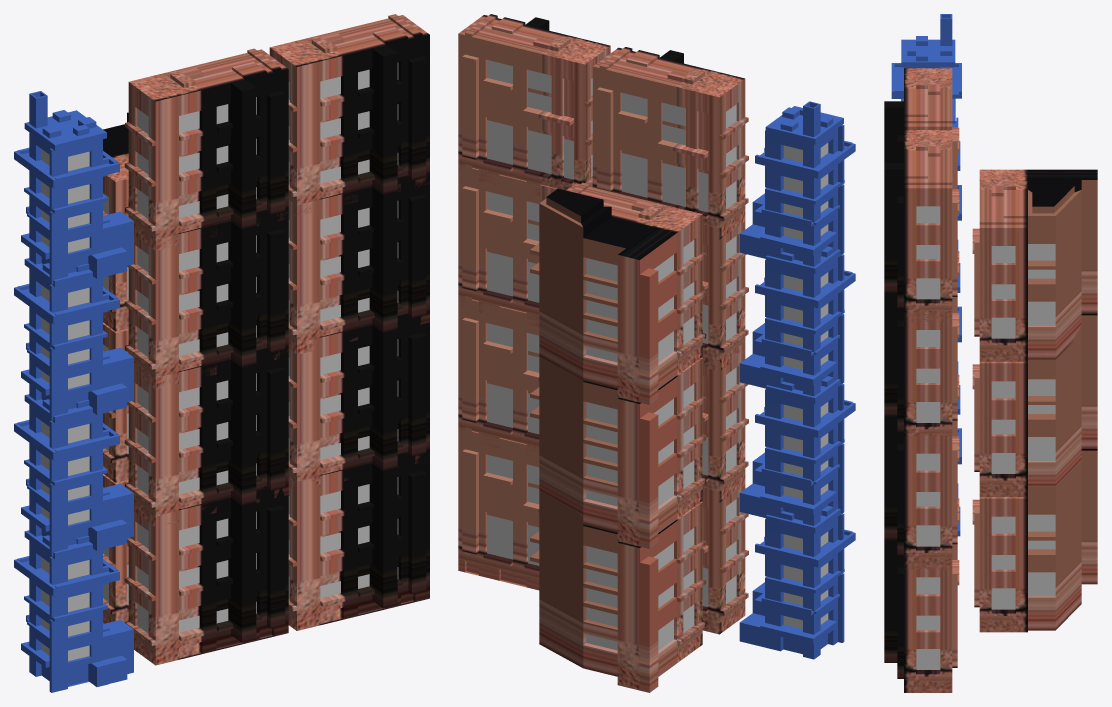
Rendered from decor05.obj.
3 views of the same model, side by side, from view 1: azimuth 30°, elevation 25°; view 2: azimuth 150°, elevation 25°; view 3: azimuth 270°, elevation 25° (orthographic). The views are drawn at different scales.
Visible parts, largest first — view 1: Cube.023, Cube.022, Cube.024; view 2: Cube.023, Cube.024, Cube.022; view 3: Cube.024, Cube.023, Cube.022.
Part boxes in pixels (x1,y1,x2,y2): Cube.023: (124,14,429,665); Cube.022: (14,91,133,692); Cube.024: (103,112,128,623); Cube.023: (458,14,748,634); Cube.024: (530,182,706,692); Cube.022: (739,101,855,659); Cube.024: (972,169,1097,632); Cube.023: (884,68,959,692); Cube.022: (891,14,961,536).
Bounding box in the file's own units: 115 × 164 × 61.44.
5 materials, 2 textured.
